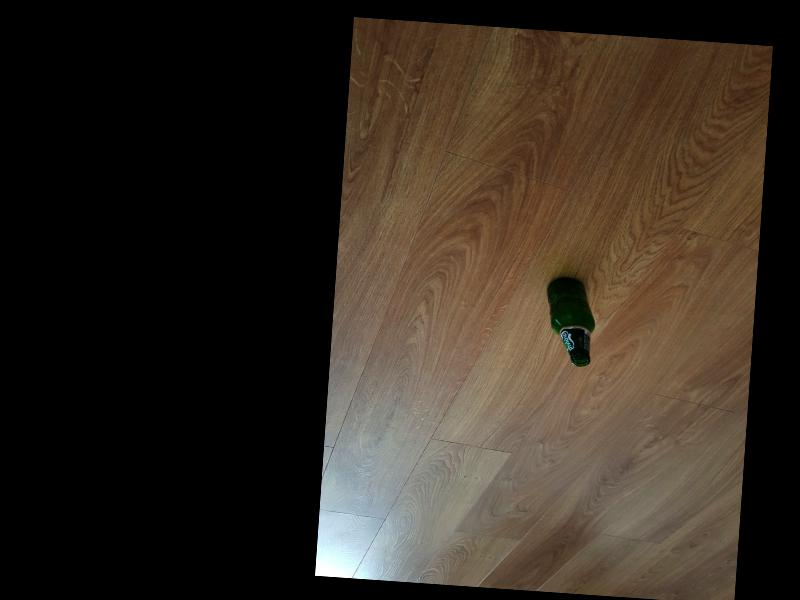Beer: (540, 275, 598, 368)
